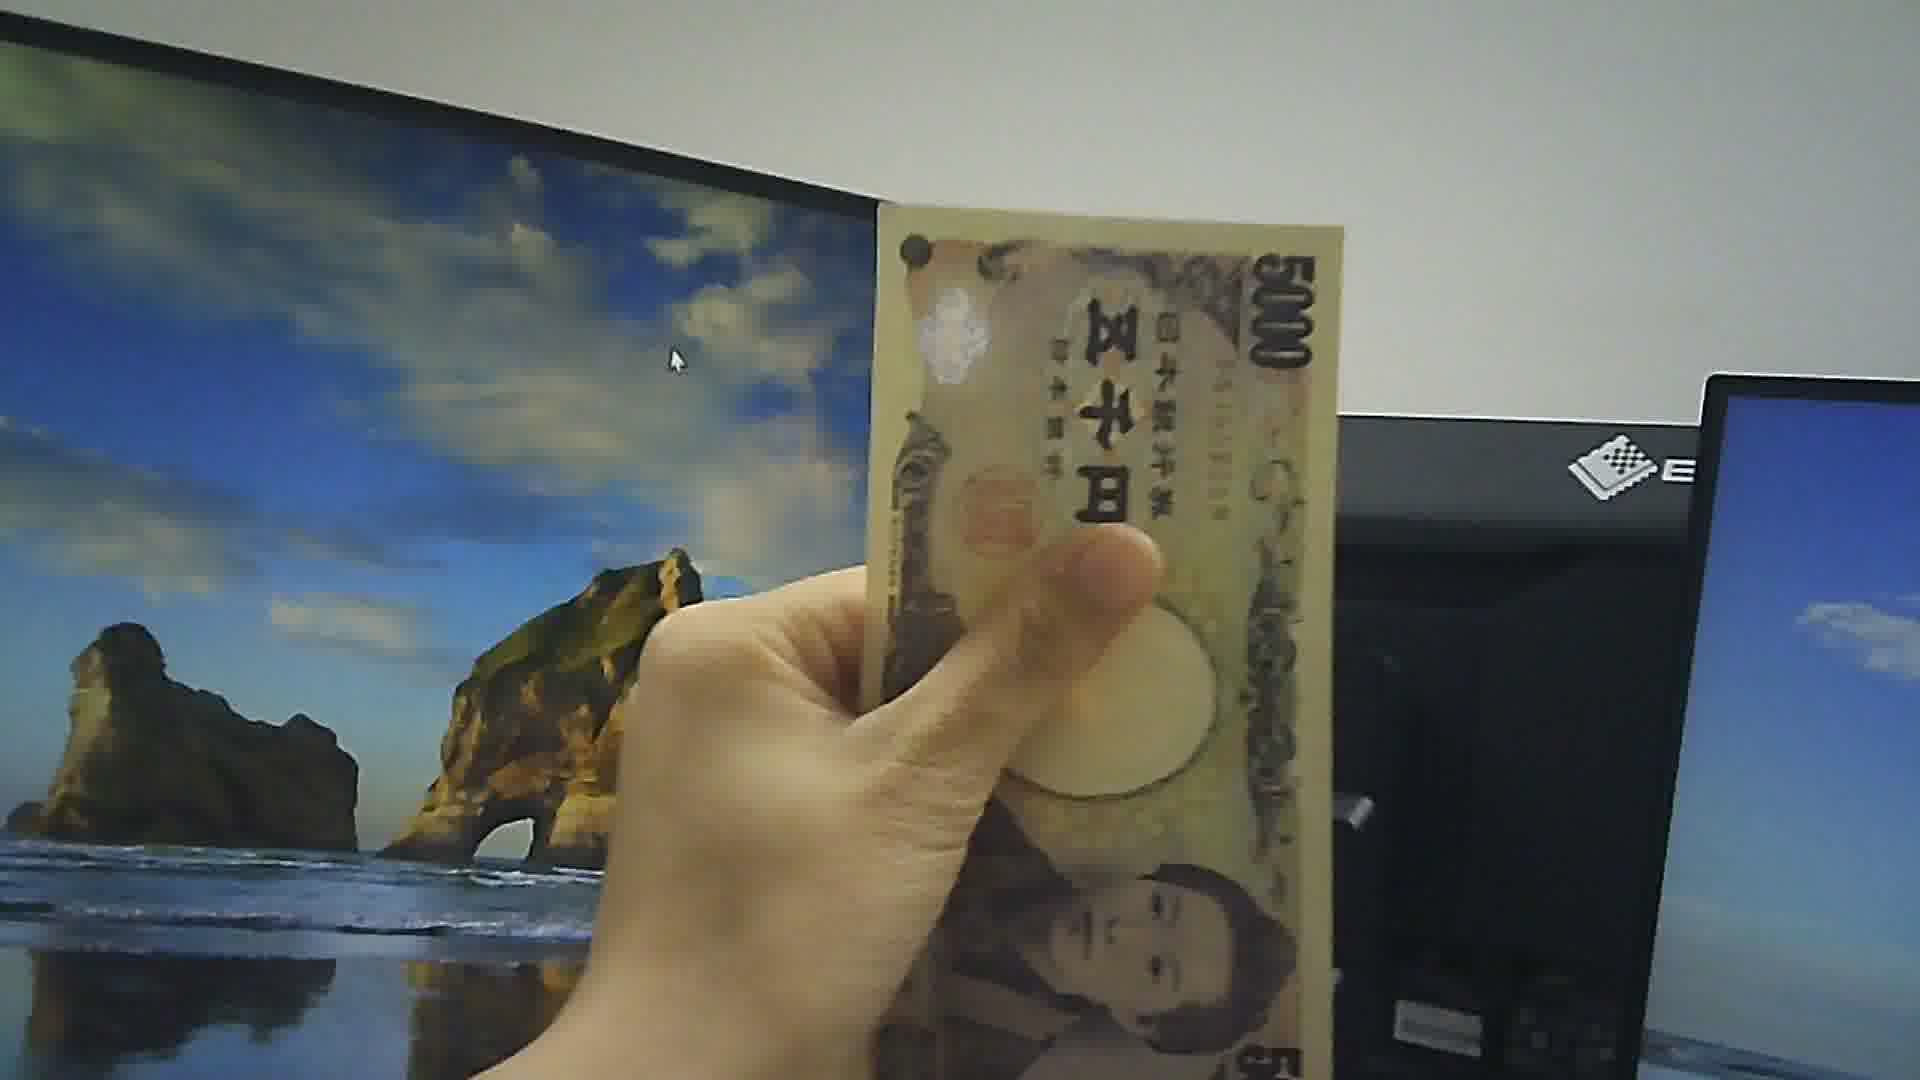5,000 Yen: (847, 189, 1349, 1079)
